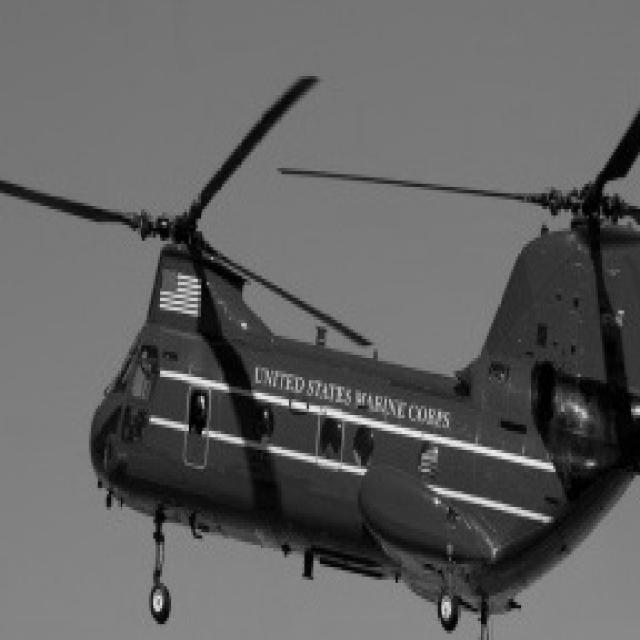Helicopter: (0, 77, 640, 635)
